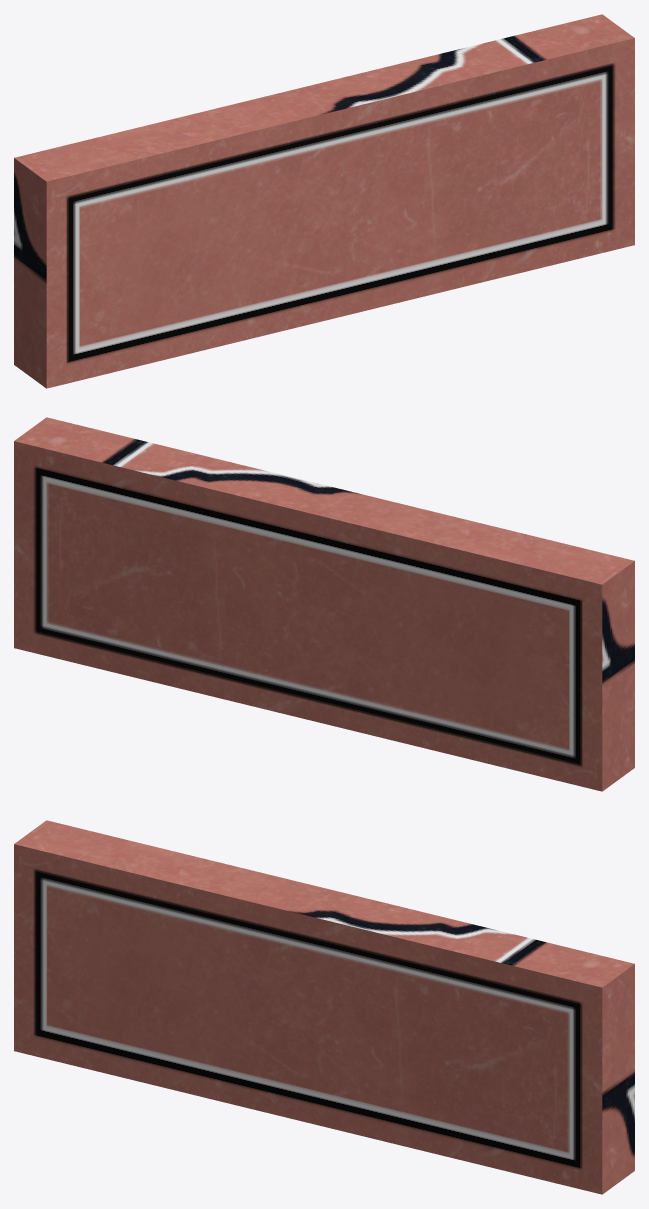
The model's file is SM_TopWall02A.fbx.
3 views of the same model, one above another, from view 1: azimuth 30°, elevation 25°; view 2: azimuth 150°, elevation 25°; view 3: azimuth 330°, elevation 25° (orthographic).
Visible parts, largest first — view 1: SM_TopWall02A; view 2: SM_TopWall02A; view 3: SM_TopWall02A.
Boxes of the visible parts, box(x1,y1,x2,y2) form: SM_TopWall02A: box(14, 14, 634, 388); SM_TopWall02A: box(14, 417, 634, 791); SM_TopWall02A: box(14, 820, 634, 1194).
Size of the model in its own units: 106 by 10.18 by 35.65.
1 material, 1 textured.
